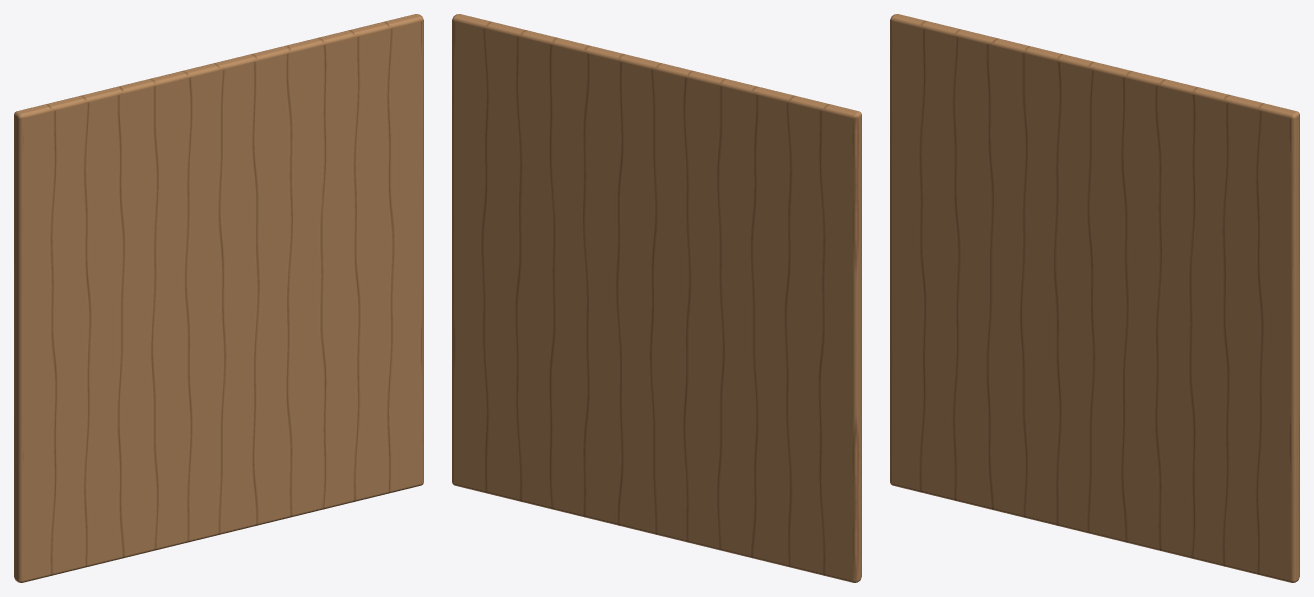
The model's file is SM_CabinetDoor_Oak_67.glb.
3 views of the same model, side by side, from view 1: azimuth 30°, elevation 25°; view 2: azimuth 150°, elevation 25°; view 3: azimuth 330°, elevation 25° (orthographic).
Visible parts, largest first — view 1: SM_CabinetDoor_Oak_67; view 2: SM_CabinetDoor_Oak_67; view 3: SM_CabinetDoor_Oak_67.
Boxes of the visible parts, <box> form: SM_CabinetDoor_Oak_67: <box>14,14,423,582</box>; SM_CabinetDoor_Oak_67: <box>452,14,861,582</box>; SM_CabinetDoor_Oak_67: <box>890,14,1299,582</box>.
Bounding box in the file's own units: 0.67 × 0.74 × 0.02.
1 material, 1 textured.
